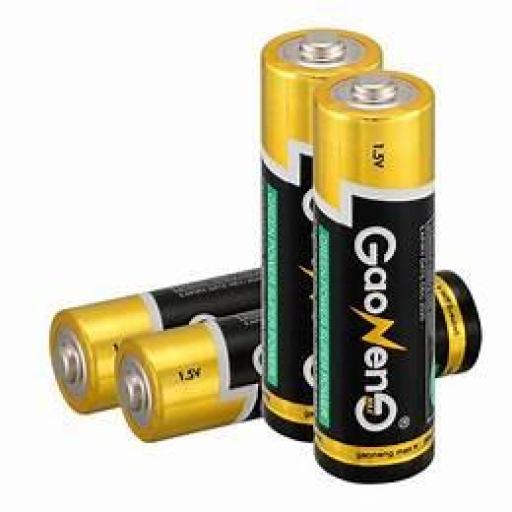battery: (258, 26, 440, 478), (47, 264, 479, 438)
